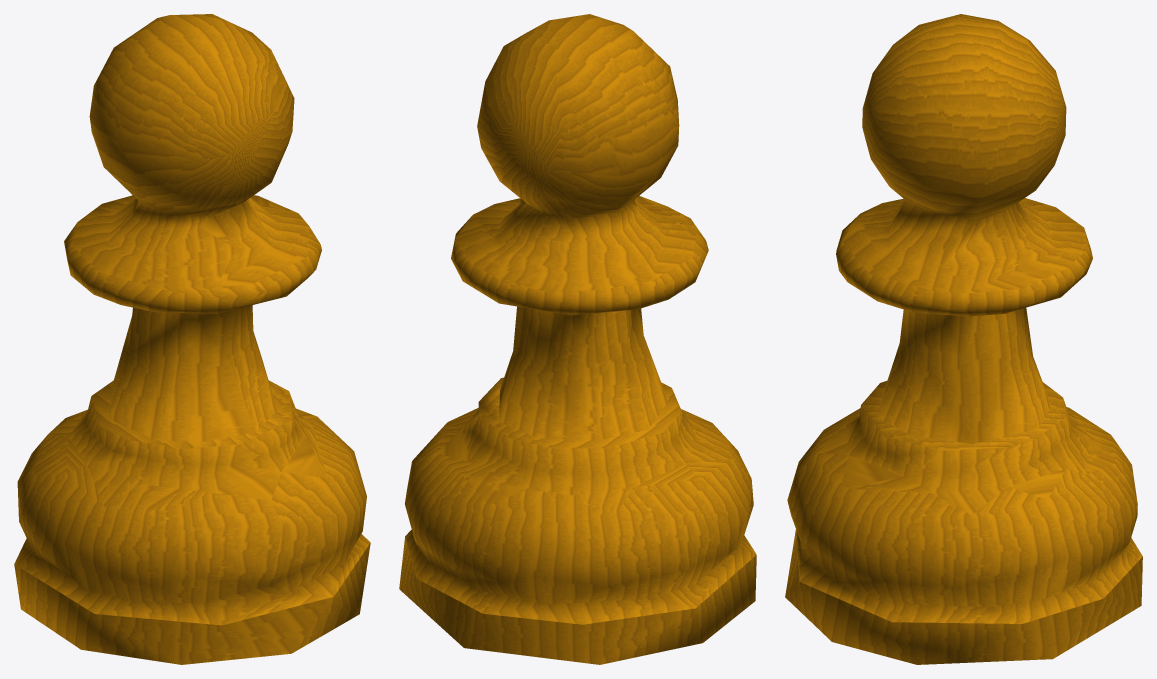
Rendered from Pawn_low_uv.obj.
3 renders of one model, left to right at view 1: azimuth 30°, elevation 25°; view 2: azimuth 150°, elevation 25°; view 3: azimuth 270°, elevation 25°, orthographic.
Parts seen in each view (by area): view 1: Pawn.001; view 2: Pawn.001; view 3: Pawn.001.
Part boxes in pixels (bbox=[...]): Pawn.001: bbox=[14, 14, 370, 664]; Pawn.001: bbox=[399, 14, 756, 664]; Pawn.001: bbox=[785, 14, 1142, 664].
Bounding box in the file's own units: 0.9478 × 1.69 × 0.9672.
